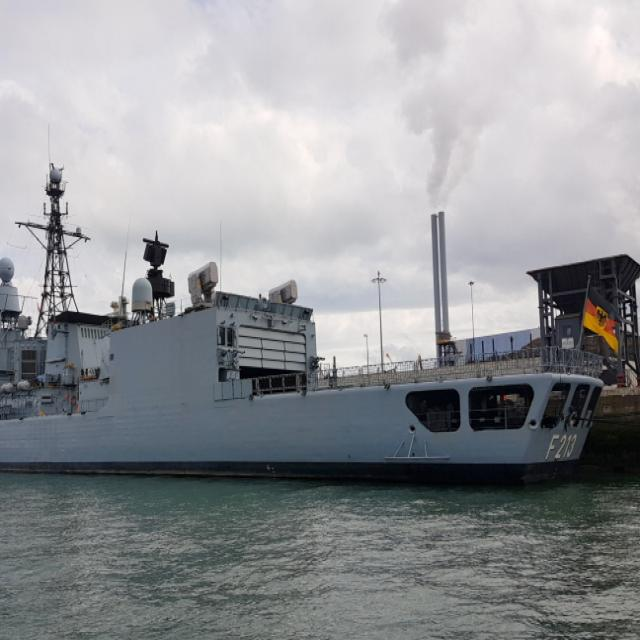Fragata: (1, 159, 609, 496)
